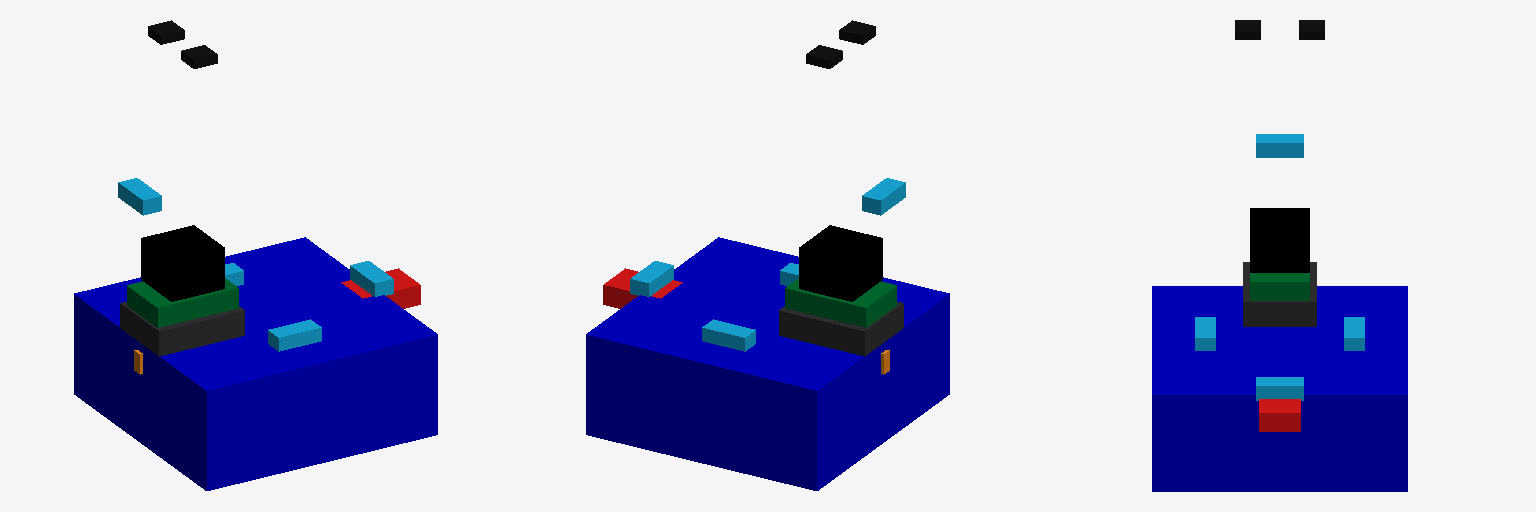
The robot description file, URDF, robot "rovac_tank":
<?xml version="1.0"?>
<robot name="rovac_tank">

  <!-- ============================================================
       ROVAC tank URDF — frame conventions (REP-103)
         +X = FORWARD    +Y = LEFT    +Z = UP

       The robot drives forward toward base_link +X. The bare front
       (+X) carries only the red front_indicator; the LIDAR / camera
       / RPi / battery stack sits on the REAR deck (-X).

       Odometry: the ESP32 motor firmware applies the body-frame
       correction in serial_transport.c; `rovac_motor_driver` on the Pi
       is a clean raw passthrough (no odom params). The published /odom
       and odom->base_link TF are REP-103-correct (+X = forward = red
       box) — verified against the physical robot on 2026-05-18.

       Robot length/width, IMU X, rear-stack X, stereo-camera height,
       and sensor X/Y are measured (2026-05-18). Stack/sensor Z offsets
       (other than the camera) and box heights remain estimates.
       ============================================================ -->

  <!-- Base Link — robot chassis, origin at motor-shaft height (20mm from ground) -->
  <link name="base_link">
    <visual>
      <geometry>
        <box size="0.2413 0.240 0.10"/>
      </geometry>
      <material name="blue">
        <color rgba="0 0 0.8 1"/>
      </material>
    </visual>
  </link>

  <!-- Front indicator — red marker at the robot's FRONT, base_link +X
       (the direction the robot drives forward, REP-103). -->
  <link name="front_indicator">
    <visual>
      <geometry>
        <box size="0.06 0.04 0.02"/>
      </geometry>
      <origin xyz="0 0 0" rpy="0 0 0"/>
      <material name="red_front">
        <color rgba="0.9 0.1 0.1 1"/>
      </material>
    </visual>
  </link>

  <joint name="front_indicator_joint" type="fixed">
    <parent link="base_link"/>
    <child link="front_indicator"/>
    <origin xyz="0.13 0 0.04" rpy="0 0 0"/>
  </joint>

  <!-- Base Footprint (Projected on ground) -->
  <link name="base_footprint"/>

  <joint name="base_footprint_joint" type="fixed">
    <parent link="base_link"/>
    <child link="base_footprint"/>
    <!-- Motor shaft at 20mm from ground -->
    <origin xyz="0 0 -0.02" rpy="0 0 0"/>
  </joint>

  <!-- ==================== IMU ==================== -->
  <link name="imu_link">
    <visual>
      <geometry>
        <box size="0.02 0.02 0.005"/>
      </geometry>
      <material name="red">
        <color rgba="0.8 0 0 1"/>
      </material>
    </visual>
  </link>

  <joint name="imu_joint" type="fixed">
    <parent link="base_link"/>
    <child link="imu_link"/>
    <!-- BNO055 on the ESP32 motor board, face-down. 180 deg rotation
         around X flips Z from down (board face) to up (ROS). Seated
         95.25mm forward of centre (+X), measured 2026-05-18. Z est. -->
    <origin xyz="0.09525 0 0.02" rpy="3.14159 0 0"/>
  </joint>

  <!-- ============================================================
       REAR DECK STACK  (chassis top deck, -X / REAR end)
       Physical stack, bottom to top:
         rpi_battery_link, rpi_link, laser_frame, stereo cameras
       All four share X and Y; Z climbs through the stack.
       Magnitudes below are best-estimates pending measurement.
       ============================================================ -->

  <!-- Raspberry Pi battery — bottom of the stack, on the chassis deck.
       Box size ESTIMATED — refine with measured battery dimensions. -->
  <link name="rpi_battery_link">
    <visual>
      <geometry>
        <box size="0.090 0.070 0.025"/>
      </geometry>
      <material name="battery_dark">
        <color rgba="0.2 0.2 0.2 1"/>
      </material>
    </visual>
  </link>

  <joint name="rpi_battery_joint" type="fixed">
    <parent link="base_link"/>
    <child link="rpi_battery_link"/>
    <origin xyz="-0.0762 0 0.0625" rpy="0 0 0"/>
  </joint>

  <!-- Raspberry Pi 5 — on top of the battery. Board 85 x 56 mm;
       box height ESTIMATED (includes headers / components). -->
  <link name="rpi_link">
    <visual>
      <geometry>
        <box size="0.085 0.056 0.020"/>
      </geometry>
      <material name="rpi_green">
        <color rgba="0.0 0.45 0.2 1"/>
      </material>
    </visual>
  </link>

  <joint name="rpi_joint" type="fixed">
    <parent link="base_link"/>
    <child link="rpi_link"/>
    <origin xyz="-0.0762 0 0.085" rpy="0 0 0"/>
  </joint>

  <!-- ==================== RPLIDAR C1 ==================== -->
  <!-- SLAMTEC RPLIDAR C1 DTOF, 55.6x55.6x41.3mm, scan plane 23.1mm from
       its base. Mounted on the REAR deck (-X), stacked above the RPi.
       laser_frame = scan plane. The RPLIDAR's 0deg azimuth points toward
       the lidar-stack end; since the 2026-05-18 front/rear redefinition
       that end is the robot REAR (-X), so laser_joint carries a 180deg
       yaw (rpy 0 0 pi) to align the scan with base_link (+X = front =
       red box). Verified 2026-05-18 with a rear-approach scan test:
       a person behind the robot must register behind the model. -->
  <link name="laser_frame">
    <visual>
      <geometry>
        <box size="0.0556 0.0556 0.0413"/>
      </geometry>
      <material name="black">
        <color rgba="0 0 0 1"/>
      </material>
    </visual>
  </link>

  <joint name="laser_joint" type="fixed">
    <parent link="base_link"/>
    <child link="laser_frame"/>
    <origin xyz="-0.0762 0 0.118" rpy="0 0 3.14159"/>
  </joint>

  <!-- ==================== Stereo Camera Rig (dual OV5647 NoIR on Pi 5 CSI) ====================
       Two Raspberry Pi NoIR Camera Module v1 (OV5647) sensors on Pi 5
       CAM0 (left) / CAM1 (right). Mounted directly ABOVE the RPLIDAR,
       on the REAR deck (-X).

       Frame tree:
         base_link
           +- stereo_camera_link           (rig centre, virtual)
              +- stereo_left_camera_link          (+Y from rig centre)
              |    +- stereo_left_camera_optical_frame   (X-right, Y-down, Z-fwd)
              +- stereo_right_camera_link         (-Y from rig centre)
                   +- stereo_right_camera_optical_frame  (X-right, Y-down, Z-fwd)

       Baseline (30mm each side) and rig height ESTIMATED, refine with
       mount measurements. Image messages reference the *_optical_frame. -->

  <link name="stereo_camera_link"/>

  <joint name="stereo_camera_joint" type="fixed">
    <parent link="base_link"/>
    <child link="stereo_camera_link"/>
    <!-- Above the LIDAR on the rear deck (-X). Cameras measured at
         355.6mm above the floor (2026-05-18); base_link is 20mm above
         the floor, so Z = 0.3556 - 0.020 = 0.3356 m. -->
    <origin xyz="-0.0762 0 0.3356" rpy="0 0 0"/>
  </joint>

  <!-- LEFT camera body (Pi 5 CAM0). OV5647 module ~ 25x24x9 mm. -->
  <link name="stereo_left_camera_link">
    <visual>
      <geometry>
        <box size="0.025 0.024 0.009"/>
      </geometry>
      <material name="camera_module_black">
        <color rgba="0.08 0.08 0.08 1"/>
      </material>
    </visual>
  </link>

  <joint name="stereo_left_camera_joint" type="fixed">
    <parent link="stereo_camera_link"/>
    <child link="stereo_left_camera_link"/>
    <!-- PLACEHOLDER baseline = 60mm; left camera at +30mm Y from rig centre. -->
    <origin xyz="0 0.030 0" rpy="0 0 0"/>
  </joint>

  <!-- LEFT optical frame (REP-103): X-right, Y-down, Z-forward.
       Rotation from camera_link to camera_optical_frame = RPY(-pi/2,0,-pi/2). -->
  <link name="stereo_left_camera_optical_frame"/>

  <joint name="stereo_left_camera_optical_joint" type="fixed">
    <parent link="stereo_left_camera_link"/>
    <child link="stereo_left_camera_optical_frame"/>
    <origin xyz="0 0 0" rpy="-1.5707963 0 -1.5707963"/>
  </joint>

  <!-- RIGHT camera body (Pi 5 CAM1). -->
  <link name="stereo_right_camera_link">
    <visual>
      <geometry>
        <box size="0.025 0.024 0.009"/>
      </geometry>
      <material name="camera_module_black"/>
    </visual>
  </link>

  <joint name="stereo_right_camera_joint" type="fixed">
    <parent link="stereo_camera_link"/>
    <child link="stereo_right_camera_link"/>
    <!-- PLACEHOLDER: right camera at -30mm Y from rig centre (60mm baseline). -->
    <origin xyz="0 -0.030 0" rpy="0 0 0"/>
  </joint>

  <link name="stereo_right_camera_optical_frame"/>

  <joint name="stereo_right_camera_optical_joint" type="fixed">
    <parent link="stereo_right_camera_link"/>
    <child link="stereo_right_camera_optical_frame"/>
    <origin xyz="0 0 0" rpy="-1.5707963 0 -1.5707963"/>
  </joint>

  <!-- ============================================================
       SENSOR HUB FRAMES — 4x HC-SR04 ultrasonic + 2x Sharp IR cliff.
       Frame ids match rovac_sensor_driver: us_front_link, us_rear_link,
       us_left_link, us_right_link, cliff_front_link, cliff_rear_link.

       sensor_msgs/Range projects along each frame's +X axis, so the
       joint rpy aims the detection cone:
         us_front  +X -> +X  (forward)        rpy 0 0 0
         us_rear   +X -> -X  (rear)           rpy 0 0 pi
         us_left   +X -> +Y  (left)           rpy 0 0 +pi/2
         us_right  +X -> -Y  (right)          rpy 0 0 -pi/2
         cliff_*   +X -> -Z  (down at floor)  rpy 0 +pi/2 0

       X/Y measured 2026-05-18: front/rear sensors at the +-120.65mm
       edges (robot 241.3mm long); left/right at the +-70mm body edges
       (140mm-wide body; treads sit outboard). Z = measured height above
       floor minus 20mm (base_link sits 20mm up): us front/left/right
       0.0562, us rear 0.195, cliff front/rear 0.0308. (2026-05-18)
       ============================================================ -->

  <link name="us_front_link">
    <visual>
      <geometry><box size="0.020 0.045 0.015"/></geometry>
      <material name="us_cyan"><color rgba="0.1 0.7 0.9 1"/></material>
    </visual>
  </link>
  <joint name="us_front_joint" type="fixed">
    <parent link="base_link"/>
    <child link="us_front_link"/>
    <origin xyz="0.12065 0 0.0562" rpy="0 0 0"/>
  </joint>

  <link name="us_rear_link">
    <visual>
      <geometry><box size="0.020 0.045 0.015"/></geometry>
      <material name="us_cyan"/>
    </visual>
  </link>
  <joint name="us_rear_joint" type="fixed">
    <parent link="base_link"/>
    <child link="us_rear_link"/>
    <origin xyz="-0.12065 0 0.195" rpy="0 0 3.14159"/>
  </joint>

  <link name="us_left_link">
    <visual>
      <geometry><box size="0.020 0.045 0.015"/></geometry>
      <material name="us_cyan"/>
    </visual>
  </link>
  <joint name="us_left_joint" type="fixed">
    <parent link="base_link"/>
    <child link="us_left_link"/>
    <origin xyz="0 0.070 0.0562" rpy="0 0 1.5707963"/>
  </joint>

  <link name="us_right_link">
    <visual>
      <geometry><box size="0.020 0.045 0.015"/></geometry>
      <material name="us_cyan"/>
    </visual>
  </link>
  <joint name="us_right_joint" type="fixed">
    <parent link="base_link"/>
    <child link="us_right_link"/>
    <origin xyz="0 -0.070 0.0562" rpy="0 0 -1.5707963"/>
  </joint>

  <link name="cliff_front_link">
    <visual>
      <geometry><box size="0.020 0.011 0.007"/></geometry>
      <material name="cliff_orange"><color rgba="0.95 0.55 0.1 1"/></material>
    </visual>
  </link>
  <joint name="cliff_front_joint" type="fixed">
    <parent link="base_link"/>
    <child link="cliff_front_link"/>
    <origin xyz="0.12065 0 0.0308" rpy="0 1.5707963 0"/>
  </joint>

  <link name="cliff_rear_link">
    <visual>
      <geometry><box size="0.020 0.011 0.007"/></geometry>
      <material name="cliff_orange"/>
    </visual>
  </link>
  <joint name="cliff_rear_joint" type="fixed">
    <parent link="base_link"/>
    <child link="cliff_rear_link"/>
    <origin xyz="-0.12065 0 0.0308" rpy="0 1.5707963 0"/>
  </joint>

</robot>

--- What the picture shows (computed from the rendered views, not written in the file) ---
Views: 3 orthographic renders of the robot side by side, from view 1: azimuth 30°, elevation 25°; view 2: azimuth 150°, elevation 25°; view 3: azimuth 270°, elevation 25°.
Model rovac_tank with 18 links and 17 joints (17 fixed), rooted at base_link, posed every joint at zero.
Links seen in each view (by area): view 1: base_link, laser_frame, rpi_battery_link, rpi_link, us_right_link, front_indicator, us_rear_link, us_front_link, stereo_left_camera_link, stereo_right_camera_link; view 2: base_link, laser_frame, rpi_battery_link, rpi_link, us_left_link, front_indicator, us_rear_link, us_front_link, stereo_right_camera_link, stereo_left_camera_link; view 3: base_link, laser_frame, rpi_battery_link, rpi_link, front_indicator, us_rear_link, us_front_link, us_left_link, us_right_link.
Link boxes in pixels (<box>): base_link: <box>74,237,437,490</box>; laser_frame: <box>141,225,224,301</box>; rpi_battery_link: <box>120,302,244,356</box>; rpi_link: <box>127,278,238,327</box>; us_right_link: <box>268,319,321,351</box>; front_indicator: <box>341,268,420,308</box>; us_rear_link: <box>118,178,161,215</box>; us_front_link: <box>350,261,393,296</box>; stereo_left_camera_link: <box>148,20,184,44</box>; stereo_right_camera_link: <box>181,45,217,68</box>; base_link: <box>586,237,949,490</box>; laser_frame: <box>799,225,882,301</box>; rpi_battery_link: <box>779,302,903,356</box>; rpi_link: <box>785,278,896,327</box>; us_left_link: <box>702,319,755,351</box>; front_indicator: <box>603,268,682,308</box>; us_rear_link: <box>862,178,905,215</box>; us_front_link: <box>630,261,673,296</box>; stereo_right_camera_link: <box>839,20,875,44</box>; stereo_left_camera_link: <box>806,45,842,68</box>; base_link: <box>1152,286,1407,491</box>; laser_frame: <box>1250,208,1309,272</box>; rpi_battery_link: <box>1243,262,1316,326</box>; rpi_link: <box>1250,273,1309,300</box>; front_indicator: <box>1259,399,1300,431</box>; us_rear_link: <box>1256,134,1303,157</box>; us_front_link: <box>1256,377,1303,400</box>; us_left_link: <box>1344,317,1364,350</box>; us_right_link: <box>1195,317,1215,350</box>.
Bounding box of the posed robot: 0.2907 × 0.24 × 0.3901 m (x, y, z).
Geometry: primitives only (box / cylinder / sphere), no mesh files.
